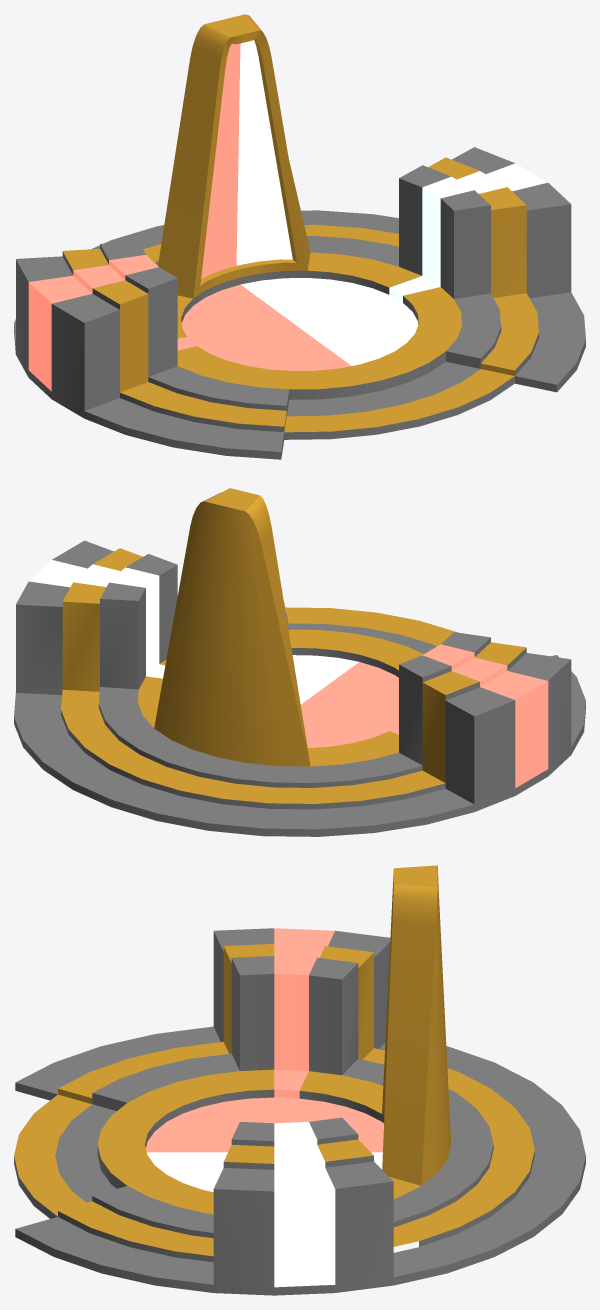
Rendered from Marking_Pedestal.fbx.
3 renders of one model, top to bottom at view 1: azimuth 30°, elevation 25°; view 2: azimuth 150°, elevation 25°; view 3: azimuth 270°, elevation 25°, orthographic. The views are drawn at different scales.
Parts seen in each view (by area): view 1: Circle.001; view 2: Circle.001; view 3: Circle.001.
Boxes of the visible parts, x1,y1,x2,y2 form: Circle.001: (14,14,585,459); Circle.001: (14,488,585,836); Circle.001: (14,865,585,1295).
Bounding box in the file's own units: 200 × 102 × 184.
